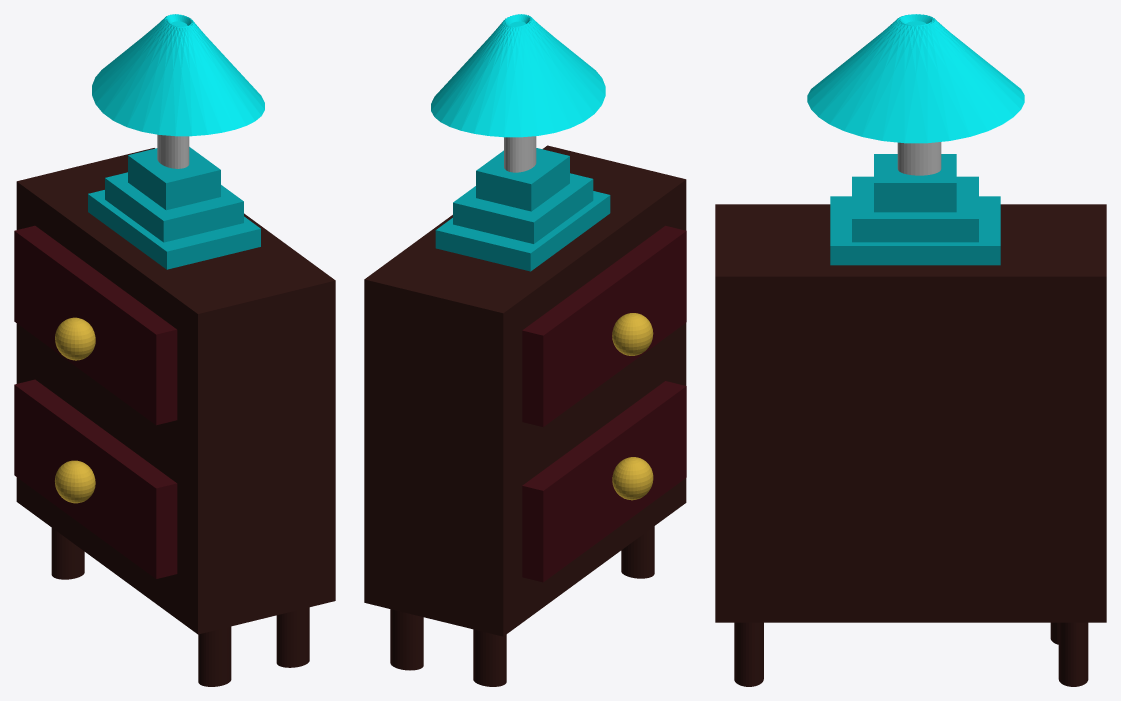
File: lamp_cyan.fbx
3 renders of one model, left to right at view 1: azimuth 30°, elevation 25°; view 2: azimuth 150°, elevation 25°; view 3: azimuth 270°, elevation 25°, orthographic. The views are drawn at different scales.
Visible parts, largest first — view 1: Cube.011; view 2: Cube.011; view 3: Cube.011.
Boxes of the visible parts, left/top/right/bottom form: Cube.011: left=14, top=14, right=335, bottom=686; Cube.011: left=364, top=14, right=686, bottom=686; Cube.011: left=715, top=14, right=1106, bottom=686.
Size of the model in its own units: 1.28 by 3.7 by 2.05.
